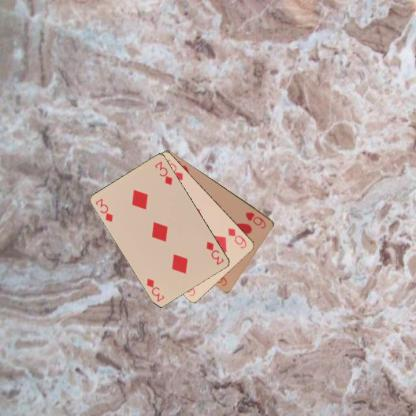3d: (204, 239, 225, 266), (93, 196, 114, 223)
6d: (225, 226, 248, 250)
6h: (243, 209, 268, 230)
